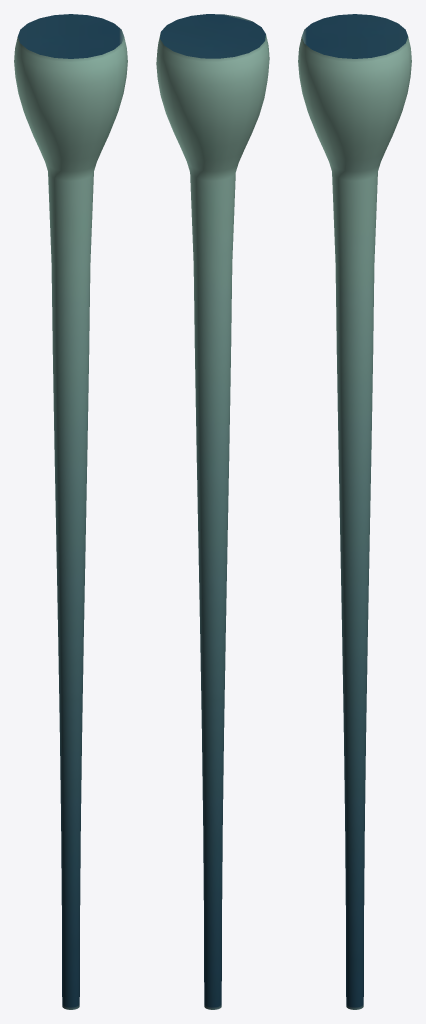
File: GuitarStem.fbx
The picture shows the model from 3 angles, left to right: view 1: azimuth 90°, elevation 25°; view 2: azimuth 150°, elevation 25°; view 3: azimuth 270°, elevation 25°; orthographic projection.
Parts seen in each view (by area): view 1: plantstem; view 2: plantstem; view 3: plantstem.
Part boxes in pixels (left/top/right/bottom): plantstem: left=14, top=14, right=127, bottom=1009; plantstem: left=156, top=14, right=269, bottom=1009; plantstem: left=298, top=14, right=411, bottom=1009.
Size of the model in its own units: 1.11 by 10.41 by 1.11.
